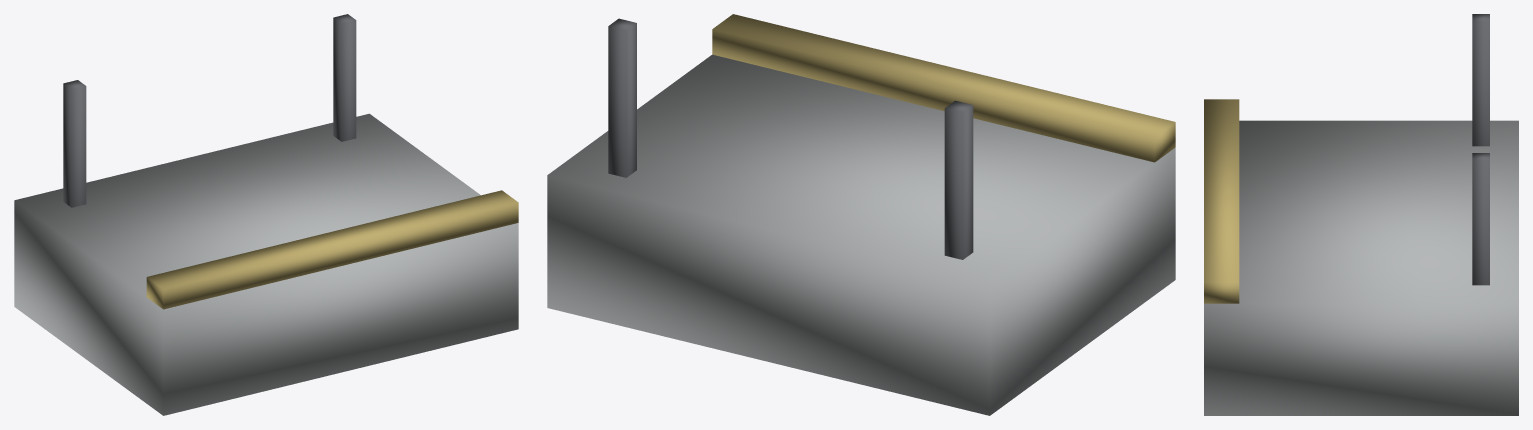
Rendered from loading_dock_11.glb.
The picture shows the model from 3 angles, left to right: view 1: azimuth 30°, elevation 25°; view 2: azimuth 150°, elevation 25°; view 3: azimuth 270°, elevation 25°; orthographic projection. The views are drawn at different scales.
Parts seen in each view (by area): view 1: world; view 2: world; view 3: world.
Part boxes in pixels (x1=…): world: x1=14, y1=14, x2=518, y2=415; world: x1=547, y1=14, x2=1175, y2=415; world: x1=1204, y1=14, x2=1518, y2=415.
Size of the model in its own units: 2.2 by 1.33 by 1.6.
